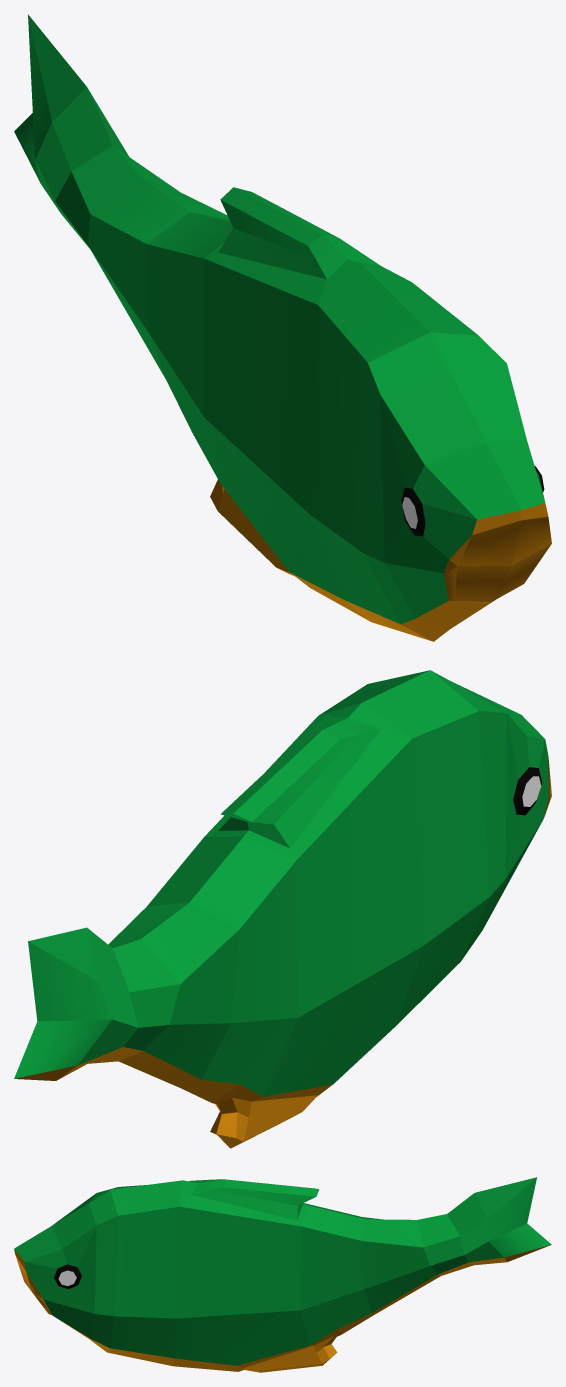
Rendered from Fish-2c.fbx.
3 views of the same model, one above another, from view 1: azimuth 30°, elevation 25°; view 2: azimuth 150°, elevation 25°; view 3: azimuth 270°, elevation 25° (orthographic). The views are drawn at different scales.
Parts seen in each view (by area): view 1: Fish-2; view 2: Fish-2; view 3: Fish-2.
Boxes of the visible parts, x1,y1,x2,y2 form: Fish-2: (14, 14, 551, 641); Fish-2: (14, 670, 551, 1148); Fish-2: (14, 1177, 551, 1372).
Size of the model in its own units: 0.0938 by 0.257 by 0.6408.
